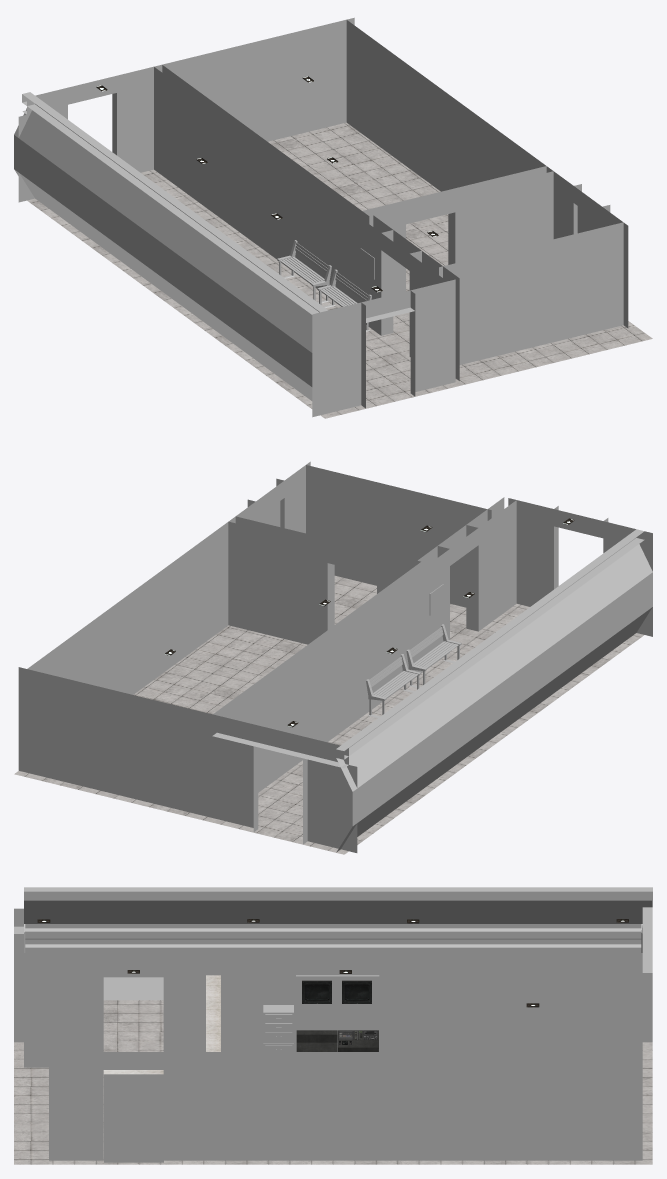
The model's file is medibay_opt.fbx.
3 views of the same model, one above another, from view 1: azimuth 30°, elevation 25°; view 2: azimuth 150°, elevation 25°; view 3: azimuth 270°, elevation 25° (orthographic). The views are drawn at different scales.
Visible parts, largest first — view 1: Scene_Root; view 2: Scene_Root; view 3: Scene_Root.
Boxes of the visible parts, x1,y1,x2,y2 form: Scene_Root: (14, 17, 652, 418); Scene_Root: (14, 461, 652, 854); Scene_Root: (14, 887, 652, 1164).
Size of the model in its own units: 951 by 282 by 1486.
